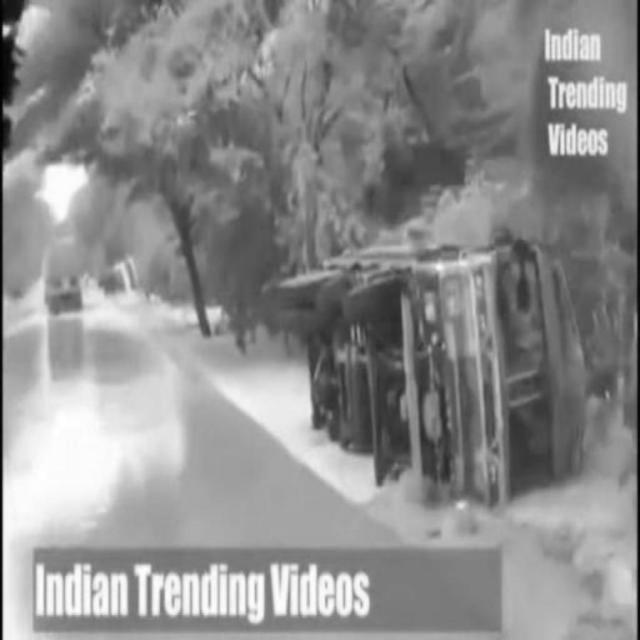vehicle: (285, 240, 587, 511)
